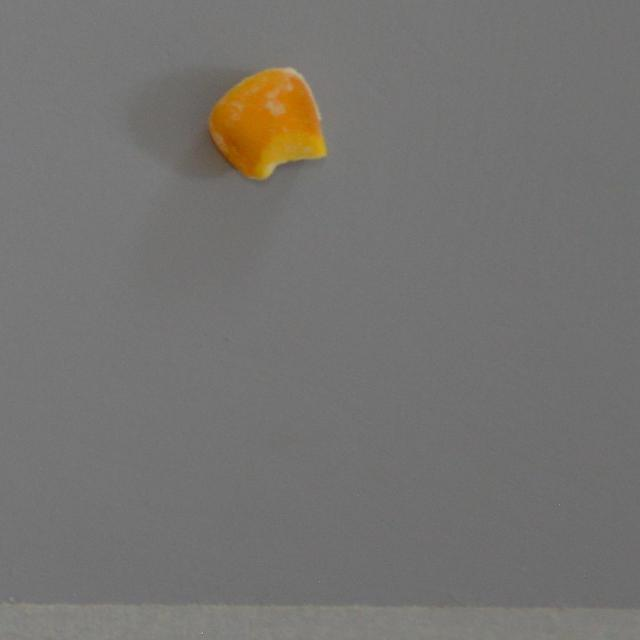pelicula: (206, 66, 326, 181)
